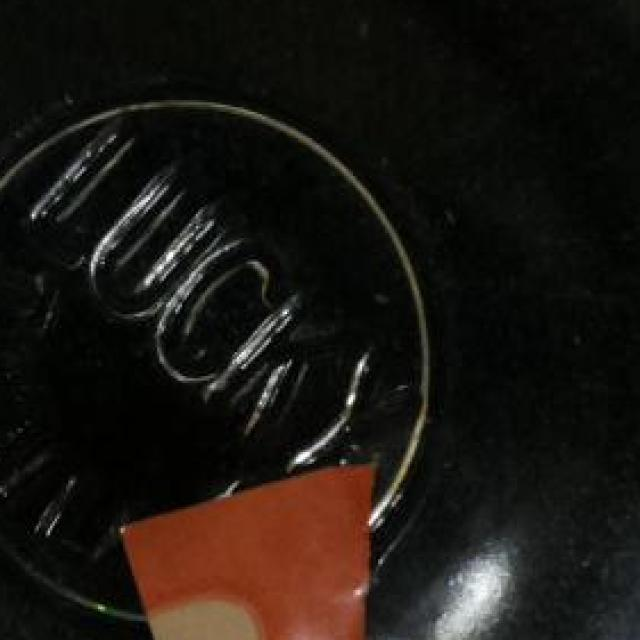Microplastic: (114, 454, 392, 640)
